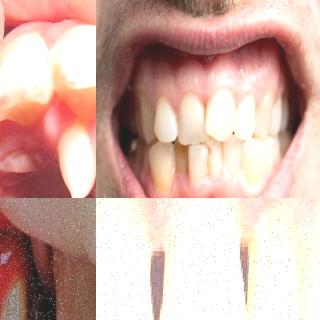Gum Swelling: (0, 227, 30, 299)
calculus: (202, 149, 218, 187)
maligned: (48, 122, 96, 198), (173, 94, 208, 146), (146, 142, 178, 198), (204, 94, 236, 143), (150, 92, 178, 144), (241, 138, 267, 192), (187, 145, 209, 189)
plaque: (0, 26, 56, 72)
